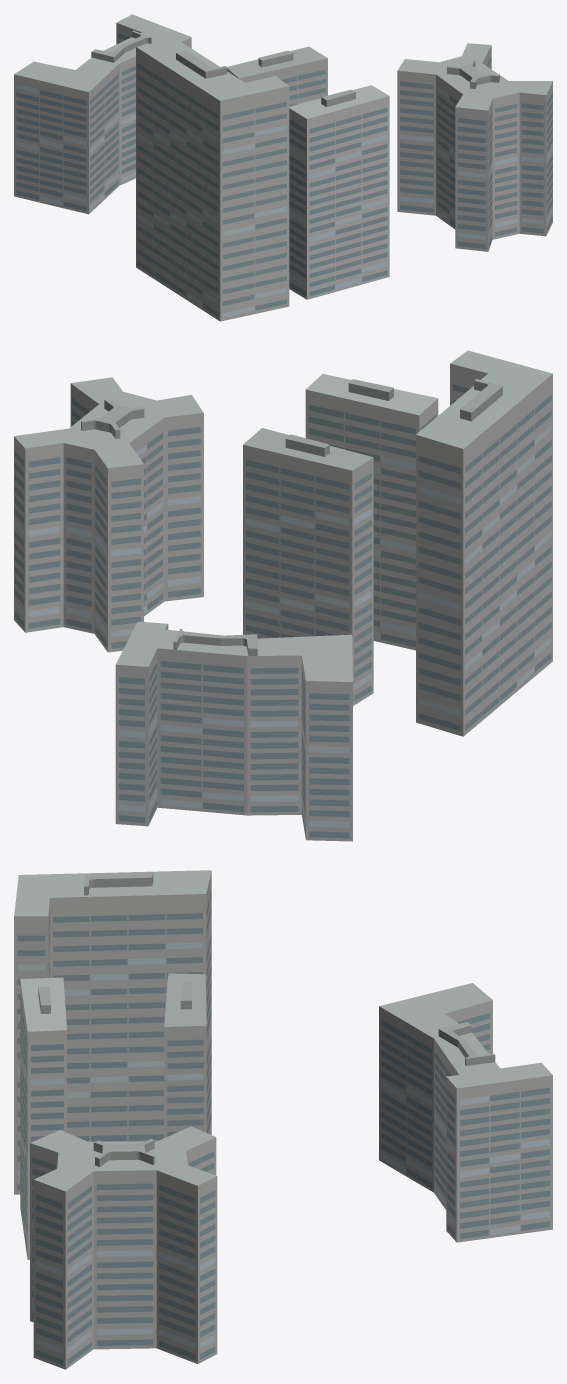
The model's file is apt-a10026414.glb.
The picture shows the model from 3 angles, top to bottom: view 1: azimuth 30°, elevation 25°; view 2: azimuth 150°, elevation 25°; view 3: azimuth 270°, elevation 25°; orthographic projection. The views are drawn at different scales.
Parts seen in each view (by area): view 1: apt-a10026414; view 2: apt-a10026414; view 3: apt-a10026414.
Boxes of the visible parts, x1,y1,x2,y2 form: apt-a10026414: (14, 14, 552, 321); apt-a10026414: (14, 350, 552, 841); apt-a10026414: (14, 870, 552, 1369).
Bounding box in the file's own units: 139 × 80 × 136.
